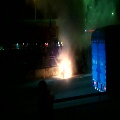fire: (58, 56, 71, 79)
